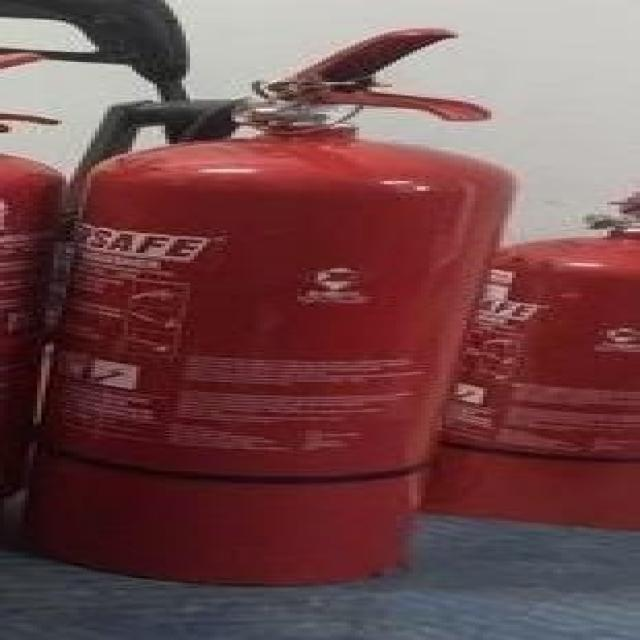fire_extinguisher: (10, 18, 506, 590), (388, 180, 632, 555), (0, 42, 78, 513)
